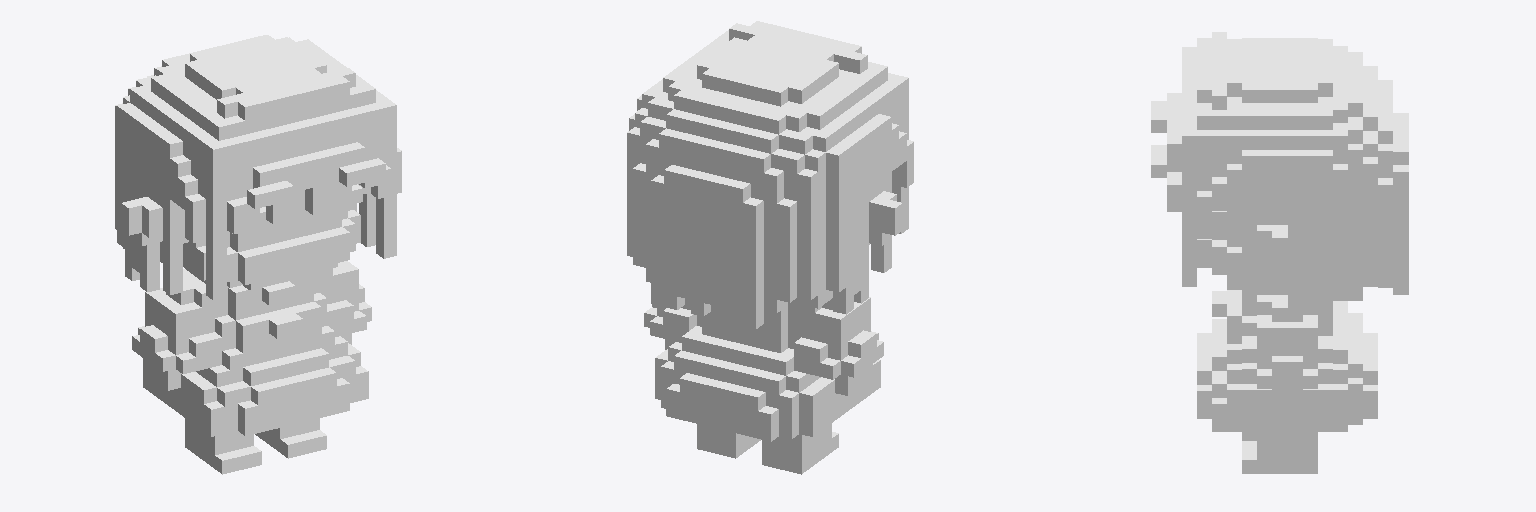
Rendered from player_staying.obj.
3 views of the same model, side by side, from view 1: azimuth 30°, elevation 25°; view 2: azimuth 150°, elevation 25°; view 3: azimuth 270°, elevation 25° (orthographic).
Parts seen in each view (by area): view 1: object 1; view 2: object 1; view 3: object 1.
Boxes of the visible parts, <box> form: object 1: <box>115,35,401,474</box>; object 1: <box>627,21,913,474</box>; object 1: <box>1151,32,1408,473</box>.
Bounding box in the file's own units: 2 × 2.8 × 1.7.